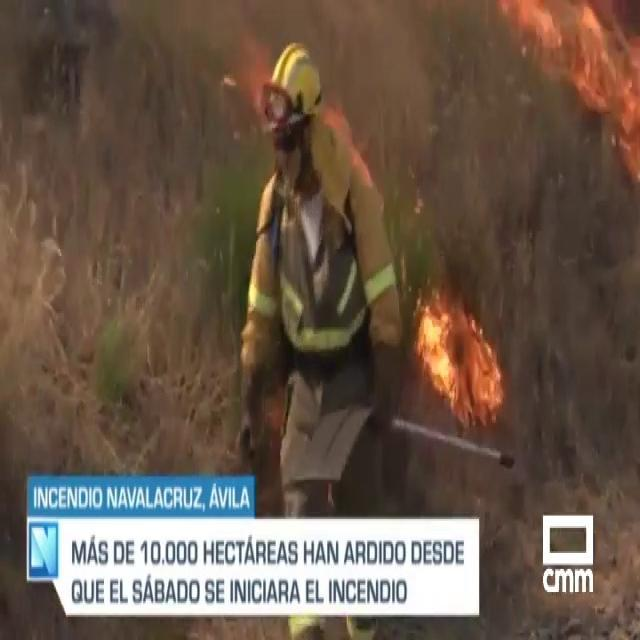Fire: (515, 0, 639, 144), (412, 284, 508, 430)
